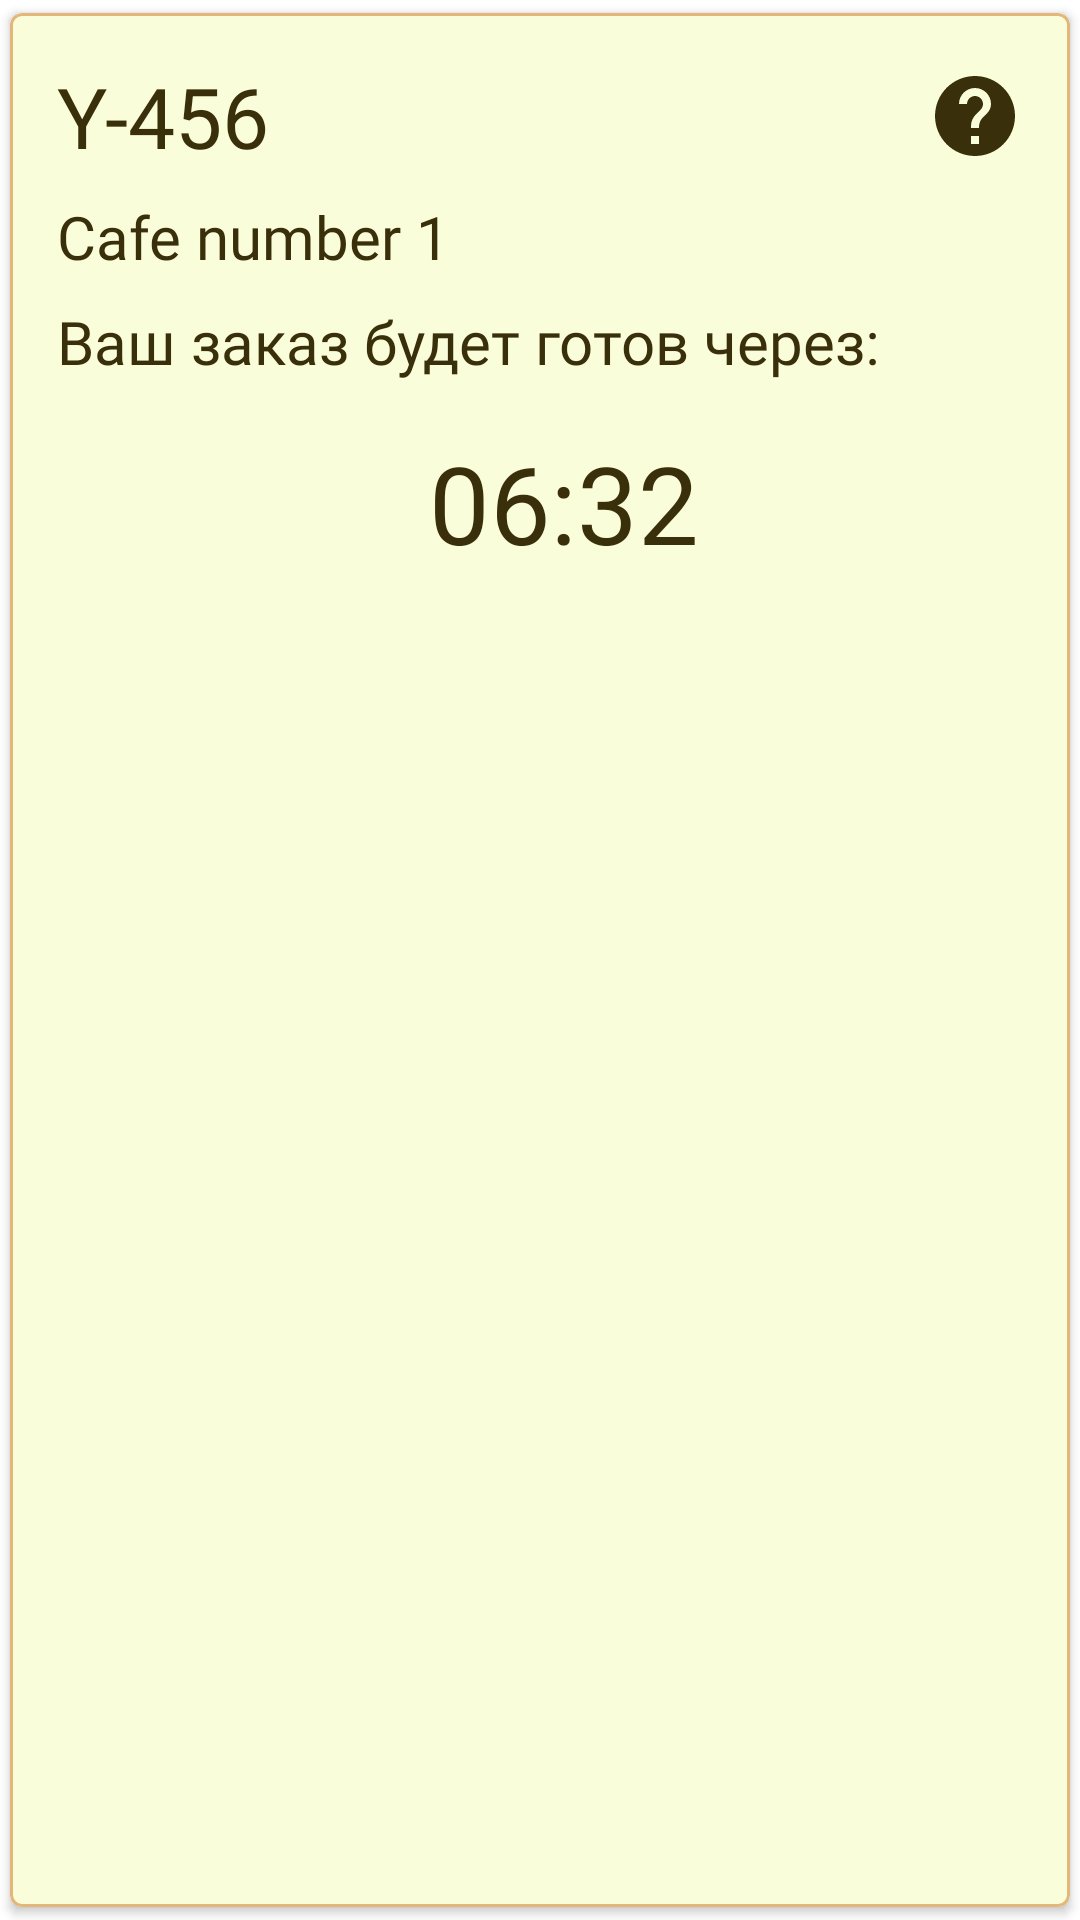

Screen size 1080 × 1920. Icon name, then its center in pixels as (x,y):
help: (975,116)
